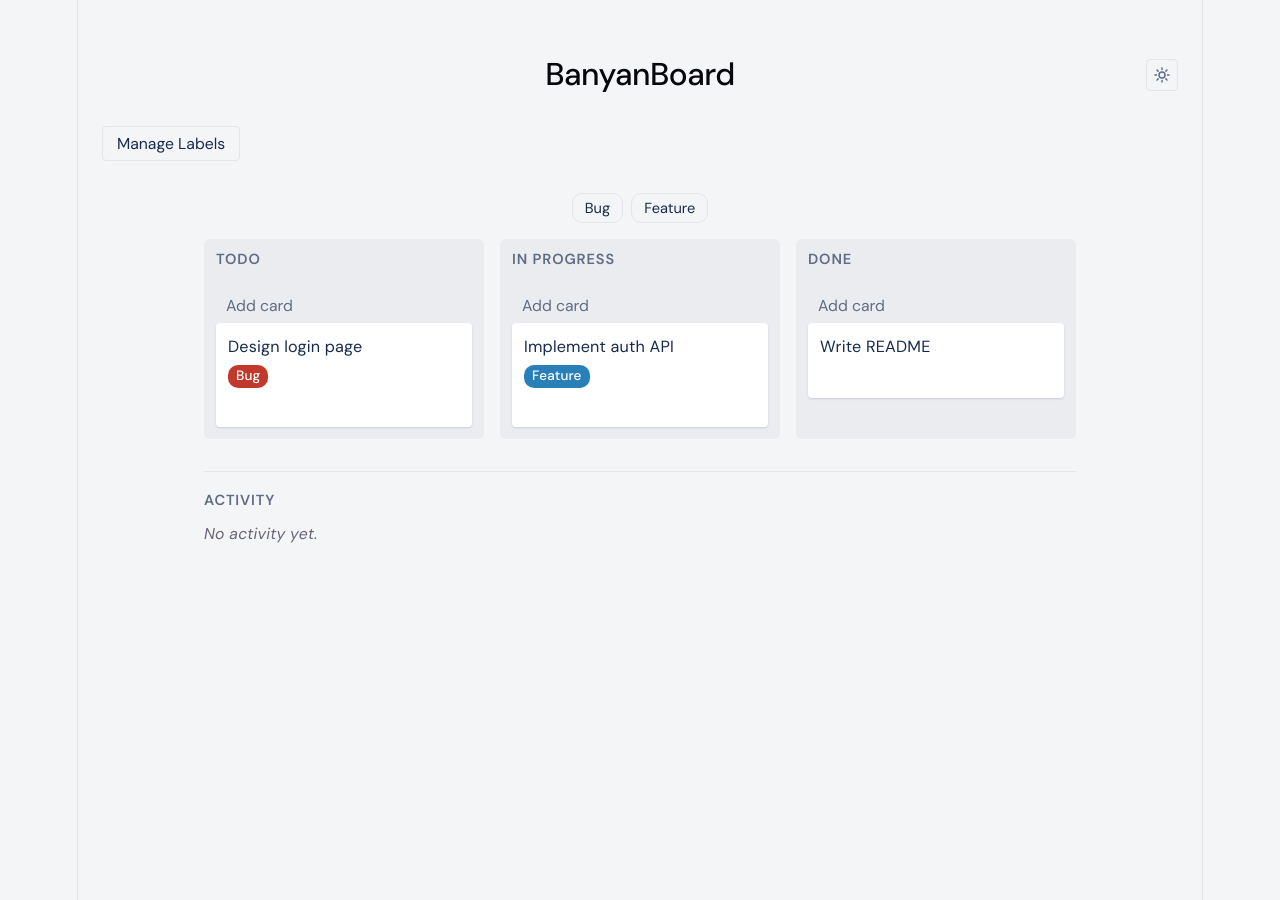
Test case: Board label filtering › hides cards that do not carry the active label when a filter is selected
The image size is (1280, 900).
Expected: the text "Design login page" is shown, x1=228 y1=336 x2=362 y2=357
Click the button "Bug" at (597, 208), box x1=572 y1=193 x2=623 y2=223
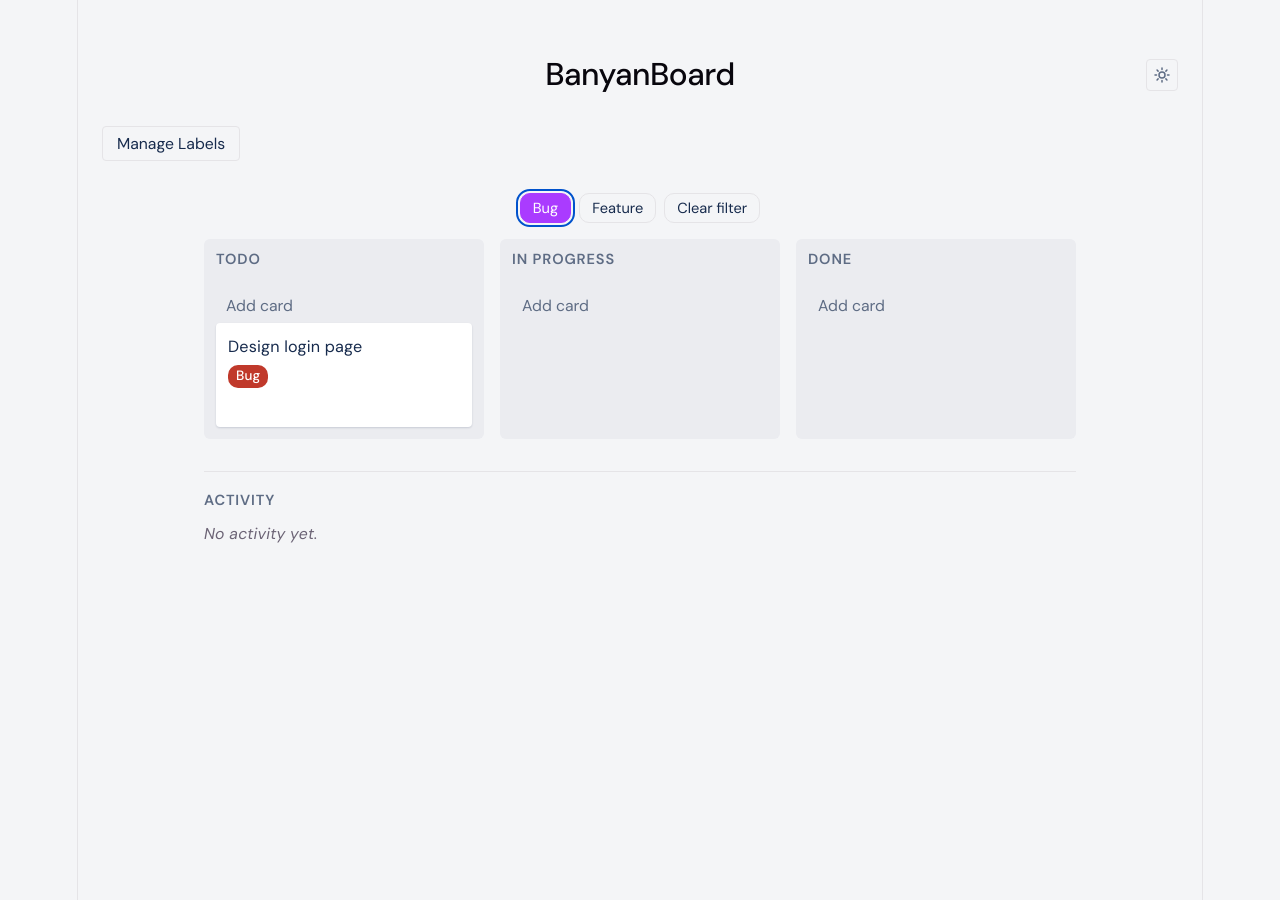
Expected: the text "Design login page" is shown, x1=228 y1=336 x2=362 y2=357
Expected: the text "Implement auth API" is gone
Expected: the text "Write README" is gone
